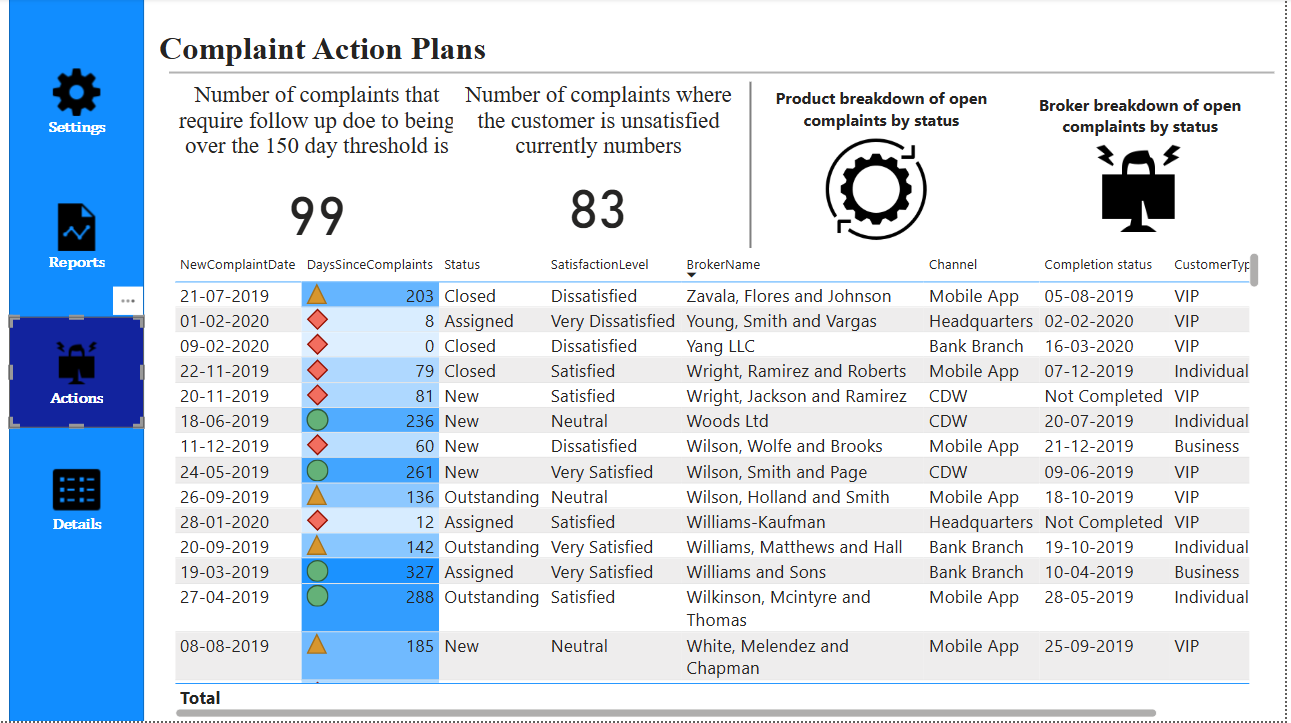

What the dashboard file says about the page in this screenshot:
{"tool":"powerbi","page":{"name":"Actions","canvas":[1280,720],"ordinal":1},"visuals":[{"type":"shape","box":[9.6,0,134.5,720.4],"z":0},{"type":"textbox","box":[154.3,25.7,355.7,64.3],"z":1000},{"type":"shape","box":[168.6,58.6,1100,31.4],"z":2000},{"type":"card","title":"Number of complaints that require follow up doe to being over the 150 day threshold is","fields":{"Values":["Sheet1.over 150 days"]},"box":[168.6,82.9,294.3,180],"z":3000},{"type":"card","title":"Number of complaints where the customer is unsatisfied currently numbers","fields":{"Values":["Sheet1.unsatisfied Complaints"]},"box":[451.4,82.9,290,165.7],"z":4000},{"type":"shape","box":[741.4,82.9,12.9,180],"z":5000},{"type":"textbox","box":[754.3,82.9,248.6,80],"z":6000},{"type":"textbox","box":[1002.9,90,265.7,82.9],"z":7000},{"type":"tableEx","fields":{"Values":["Sheet1.NewComplaintDate","Sheet1.DaysSinceComplaints","Sheet1.Status","Sheet1.SatisfactionLevel","Sheet1.BrokerName","Sheet1.Channel","Sheet1.Completion status","Sheet1.CustomerType","Sheet1.StateRegion"]},"box":[168.8,248.4,1089.5,472],"z":8000},{"type":"image","box":[1062.6,133.3,143.6,114.9],"z":9000},{"type":"image","box":[795.9,131.3,153.8,116.9],"z":10000},{"type":"actionButton","box":[10,47.3,134.3,110.7],"z":11000},{"type":"actionButton","box":[10,181.6,134.3,110.7],"z":12000},{"type":"actionButton","box":[10,317.2,134.3,110.7],"z":13000},{"type":"actionButton","box":[10,442.8,134.3,110.7],"z":14000}]}

Visuals, with their boxes on the page's 1280x720 design canvas (x1, y1, x2, y2). These are canvas units, not pixel positions in the 1291x723 screenshot, which may show the page scaled, cropped or inside an application window:
shape: <region>10, 0, 144, 720</region>
textbox: <region>154, 26, 510, 90</region>
shape: <region>169, 59, 1269, 90</region>
"Number of complaints that require follow up doe to being over the 150 day threshold is" card: <region>169, 83, 463, 263</region>
"Number of complaints where the customer is unsatisfied currently numbers" card: <region>451, 83, 741, 249</region>
shape: <region>741, 83, 754, 263</region>
textbox: <region>754, 83, 1003, 163</region>
textbox: <region>1003, 90, 1269, 173</region>
tableEx - Sheet1.NewComplaintDate x Sheet1.DaysSinceComplaints: <region>169, 248, 1258, 720</region>
image: <region>1063, 133, 1206, 248</region>
image: <region>796, 131, 950, 248</region>
actionButton: <region>10, 47, 144, 158</region>
actionButton: <region>10, 182, 144, 292</region>
actionButton: <region>10, 317, 144, 428</region>
actionButton: <region>10, 443, 144, 554</region>
